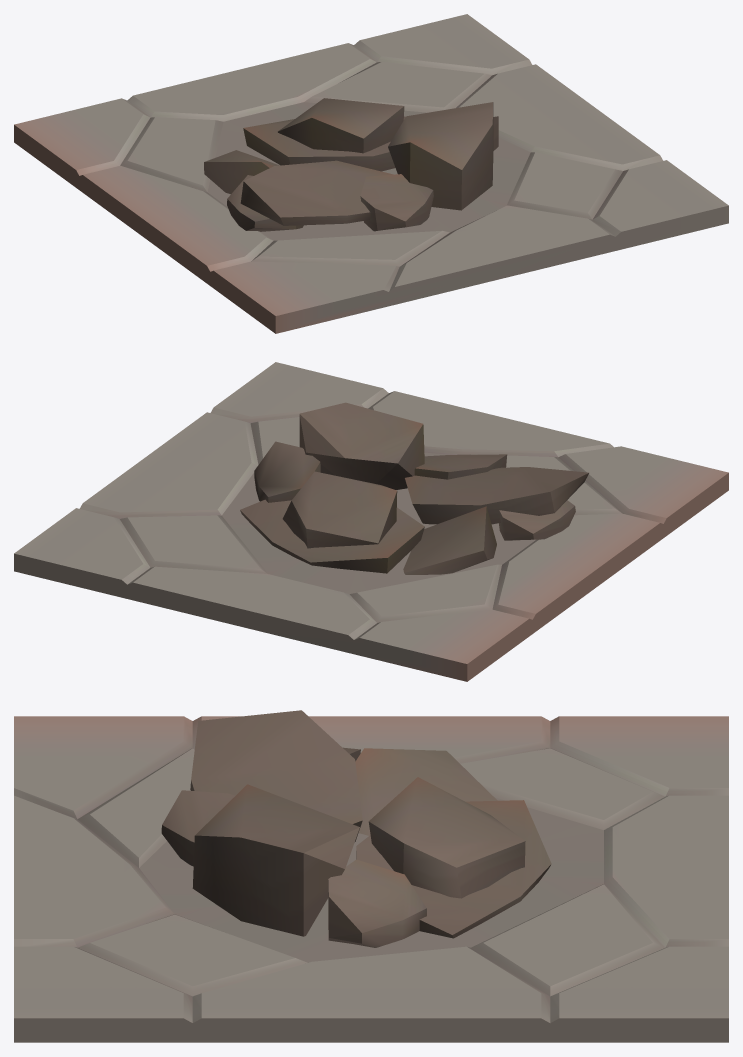
Rendered from floor_rocks.glb.
3 views of the same model, one above another, from view 1: azimuth 30°, elevation 25°; view 2: azimuth 150°, elevation 25°; view 3: azimuth 270°, elevation 25° (orthographic). The views are drawn at different scales.
Parts seen in each view (by area): view 1: floor_tile_large_rocks; view 2: floor_tile_large_rocks; view 3: floor_tile_large_rocks.
Boxes of the visible parts, bbox=[...] form: floor_tile_large_rocks: bbox=[14, 14, 728, 333]; floor_tile_large_rocks: bbox=[14, 362, 728, 681]; floor_tile_large_rocks: bbox=[14, 710, 728, 1042].
Size of the model in its own units: 4 by 0.6362 by 4.
Materials: 1 (1 with a texture image).
